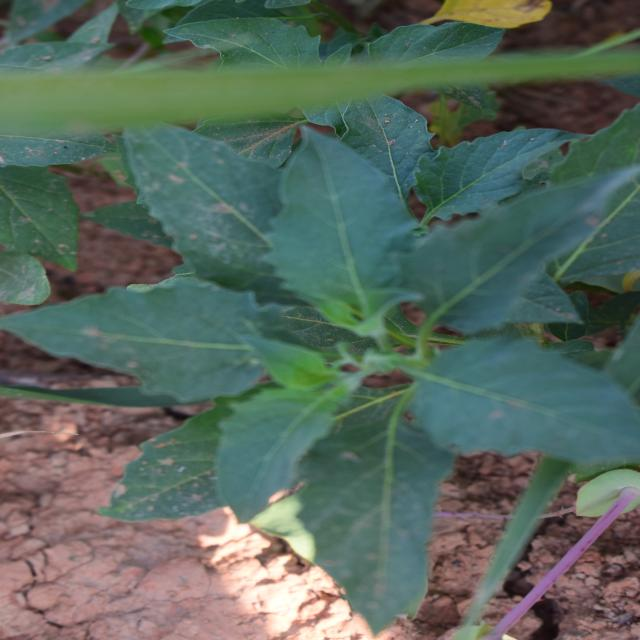Black_nightshade: (66, 63, 507, 605)
